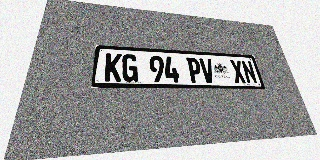4: (164, 56, 180, 82)
9: (149, 55, 165, 82)
G: (122, 54, 138, 82)
K: (104, 53, 122, 82)
N: (241, 60, 258, 84)
P: (186, 57, 203, 83)
V: (199, 58, 216, 83)
X: (229, 60, 247, 83)
